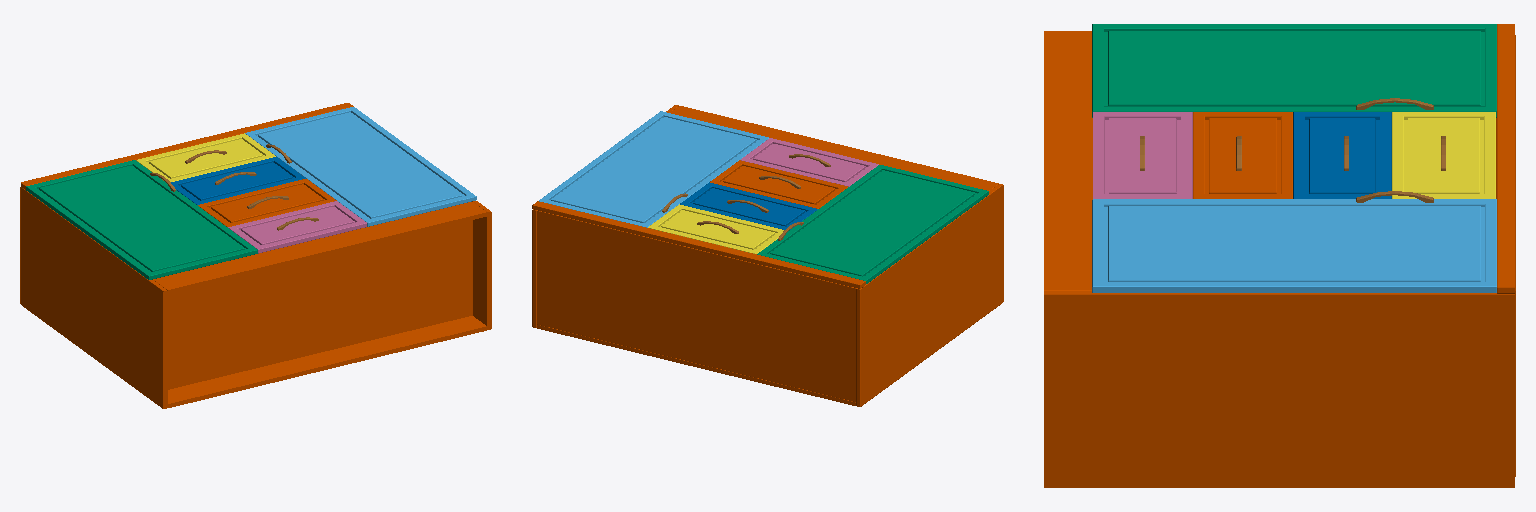
robot.urdf — 398:
<robot name="398">


	<link name="0:virtual">
		<visual>
			<origin xyz="0.0 0.0 0.0" rpy="0 0 0"/>
			<geometry>
				<cylinder length="0" radius="0"/>
			</geometry>
		</visual>
	</link>


	<link name="1:cabinet door 1">
		<visual>
			<origin xyz="-0.5995519757270813 -0.48165565729141235 -0.19635900110006332" rpy="0 0 0"/>
			<geometry>
				<mesh filename="../raw_data/398/part_meshes/1.dae" />
			</geometry>
		</visual>
	</link>


	<link name="2:cabinet door 2">
		<visual>
			<origin xyz="0.5995519757270813 -0.48165565729141235 -0.19635900110006332" rpy="0 0 0"/>
			<geometry>
				<mesh filename="../raw_data/398/part_meshes/2.dae" />
			</geometry>
		</visual>
	</link>


	<link name="3:drawer 1">
		<visual>
			<origin xyz="-0.0002610012888908386 -0.7689925134181976 0.002888500690460205" rpy="0 0 0"/>
			<geometry>
				<mesh filename="../raw_data/398/part_meshes/3.dae" />
			</geometry>
		</visual>
	</link>


	<link name="4:drawer 2">
		<visual>
			<origin xyz="-0.0002610012888908386 -0.57362499833107 0.002888500690460205" rpy="0 0 0"/>
			<geometry>
				<mesh filename="../raw_data/398/part_meshes/4.dae" />
			</geometry>
		</visual>
	</link>


	<link name="5:drawer 3">
		<visual>
			<origin xyz="-0.0002610012888908386 -0.3823090046644211 0.002888500690460205" rpy="0 0 0"/>
			<geometry>
				<mesh filename="../raw_data/398/part_meshes/5.dae" />
			</geometry>
		</visual>
	</link>


	<link name="6:drawer 4">
		<visual>
			<origin xyz="-0.0002610012888908386 -0.18896714970469475 0.002888500690460205" rpy="0 0 0"/>
			<geometry>
				<mesh filename="../raw_data/398/part_meshes/6.dae" />
			</geometry>
		</visual>
	</link>


	<joint name="5:drawer 3::1:cabinet door 1_rotation" type="revolute">
		<parent link="5:drawer 3"/>
		<child link="1:cabinet door 1"/>
		<origin xyz="0.5992909744381905 0.09934665262699127 0.19924750179052353" rpy="0 0 0"/>
		<limit lower="0.0" upper="1.460840583919254" effort="10" velocity="3"/>
		<axis xyz="0.0 1.0 0.0"/>
	</joint>


	<joint name="5:drawer 3::2:cabinet door 2_rotation" type="revolute">
		<parent link="5:drawer 3"/>
		<child link="2:cabinet door 2"/>
		<origin xyz="-0.5998129770159721 0.09934665262699127 0.19924750179052353" rpy="0 0 0"/>
		<limit lower="-1.5079644737231006" upper="0.0" effort="10" velocity="3"/>
		<axis xyz="0.0 1.0 0.0"/>
	</joint>


	<joint name="0:virtual::3:drawer 1_translation" type="prismatic">
		<parent link="0:virtual"/>
		<child link="3:drawer 1"/>
		<origin xyz="0.0002610012888908386 0.7689925134181976 -0.002888500690460205" rpy="0 0 0"/>
		<limit lower="-0.0002425062656403" upper="0.35375749373436" effort="10" velocity="3"/>
		<axis xyz="0.0 0.0 1.0"/>
	</joint>


	<joint name="0:virtual::4:drawer 2_translation" type="prismatic">
		<parent link="0:virtual"/>
		<child link="4:drawer 2"/>
		<origin xyz="0.0002610012888908386 0.57362499833107 -0.002888500690460205" rpy="0 0 0"/>
		<limit lower="-0.0002425062656403" upper="0.35375749373436" effort="10" velocity="3"/>
		<axis xyz="0.0 0.0 1.0"/>
	</joint>


	<joint name="0:virtual::5:drawer 3_translation" type="prismatic">
		<parent link="0:virtual"/>
		<child link="5:drawer 3"/>
		<origin xyz="0.0002610012888908386 0.3823090046644211 -0.002888500690460205" rpy="0 0 0"/>
		<limit lower="-0.0002425062656403" upper="0.35375749373436" effort="10" velocity="3"/>
		<axis xyz="0.0 0.0 1.0"/>
	</joint>


	<joint name="5:drawer 3::6:drawer 4_translation" type="prismatic">
		<parent link="5:drawer 3"/>
		<child link="6:drawer 4"/>
		<origin xyz="0.0 -0.19334185495972633 0.0" rpy="0 0 0"/>
		<limit lower="-0.0002425062656403" upper="0.35375749373436" effort="10" velocity="3"/>
		<axis xyz="0.0 0.0 1.0"/>
	</joint>


</robot>

--- Facts derived from the render (not from the file) ---
3 views of the same robot in one strip: view 1: azimuth 30°, elevation 25°; view 2: azimuth 150°, elevation 25°; view 3: azimuth 270°, elevation 25° (orthographic).
Robot: 398 — 7 links, 6 joints (2 revolute, 4 prismatic); root link 0:virtual; default pose: every joint at zero.
Links seen in each view (by area): view 1: 5:drawer 3, 2:cabinet door 2, 1:cabinet door 1, 6:drawer 4, 3:drawer 1, 4:drawer 2; view 2: 5:drawer 3, 2:cabinet door 2, 1:cabinet door 1, 3:drawer 1, 6:drawer 4, 4:drawer 2; view 3: 5:drawer 3, 1:cabinet door 1, 2:cabinet door 2, 3:drawer 1, 6:drawer 4, 4:drawer 2.
Boxes of the visible links, x1=… form: 5:drawer 3: x1=20, y1=103, x2=491, y2=408; 2:cabinet door 2: x1=26, y1=160, x2=257, y2=279; 1:cabinet door 1: x1=245, y1=107, x2=476, y2=226; 6:drawer 4: x1=228, y1=201, x2=366, y2=253; 3:drawer 1: x1=136, y1=133, x2=275, y2=181; 4:drawer 2: x1=171, y1=157, x2=305, y2=204; 5:drawer 3: x1=532, y1=105, x2=1003, y2=406; 2:cabinet door 2: x1=757, y1=165, x2=988, y2=283; 1:cabinet door 1: x1=539, y1=111, x2=768, y2=227; 3:drawer 1: x1=648, y1=204, x2=783, y2=253; 6:drawer 4: x1=741, y1=138, x2=878, y2=186; 4:drawer 2: x1=680, y1=182, x2=817, y2=229; 5:drawer 3: x1=1044, y1=24, x2=1515, y2=487; 1:cabinet door 1: x1=1092, y1=191, x2=1496, y2=292; 2:cabinet door 2: x1=1092, y1=24, x2=1496, y2=117; 3:drawer 1: x1=1392, y1=112, x2=1495, y2=198; 6:drawer 4: x1=1093, y1=112, x2=1192, y2=198; 4:drawer 2: x1=1293, y1=112, x2=1391, y2=198.
Size in the robot's own frame: 1.2 by 0.9069 by 0.4496 metres.
6 mesh visuals loaded from 6 distinct referenced files (6 Collada DAE).